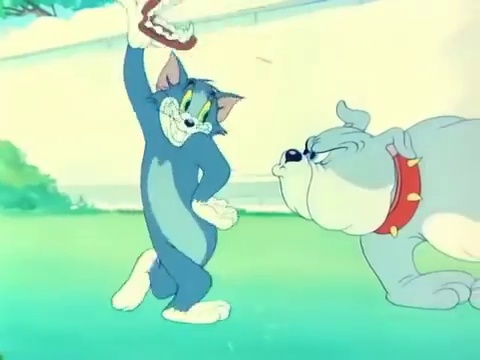spike: (267, 99, 425, 240)
tom: (148, 50, 242, 150)
